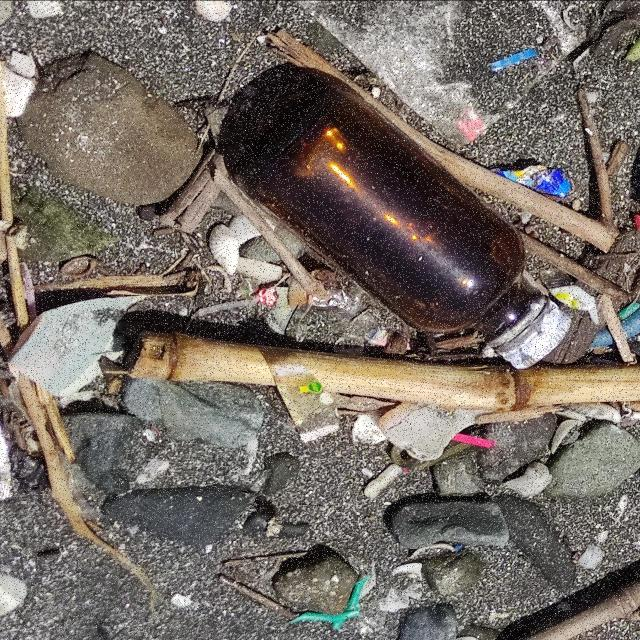glass_waste: (240, 84, 573, 370)
